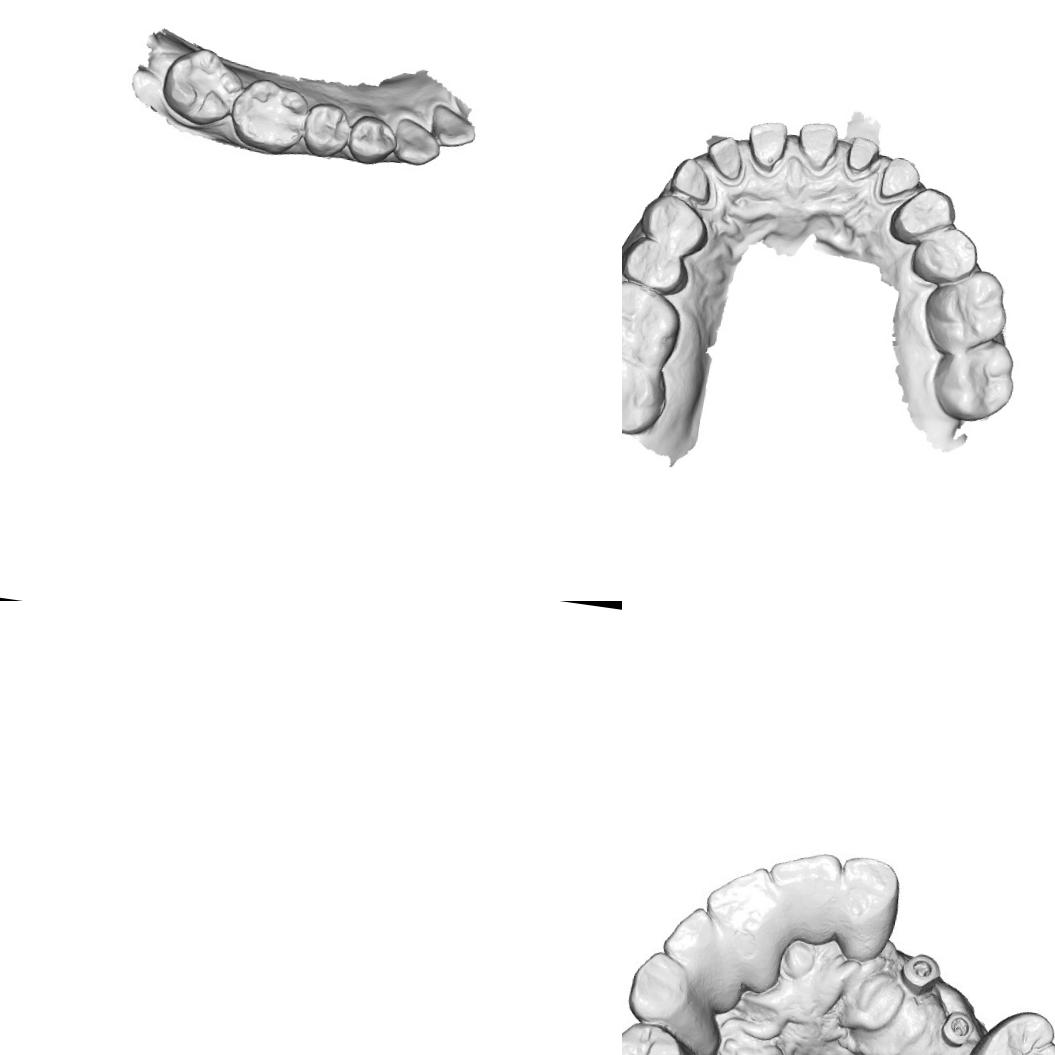canine: (622, 948, 734, 1055), (390, 115, 446, 170)
crown: (791, 117, 844, 178), (666, 154, 722, 209), (871, 152, 924, 210), (700, 131, 752, 190), (742, 117, 792, 178), (838, 132, 886, 186)
implant: (935, 1003, 984, 1055), (900, 949, 946, 999)
incisor: (694, 864, 793, 994), (765, 846, 852, 956), (657, 904, 745, 1012), (832, 854, 907, 964), (426, 102, 480, 153)
molar: (918, 260, 1014, 364), (926, 332, 1020, 429), (156, 41, 250, 132), (227, 74, 313, 158), (622, 275, 686, 364), (960, 1004, 1055, 1055), (622, 348, 674, 441)
premolar: (635, 190, 714, 260), (886, 181, 960, 252), (906, 222, 982, 290), (622, 232, 695, 298), (298, 98, 356, 161), (344, 111, 402, 170), (622, 1022, 716, 1055)
